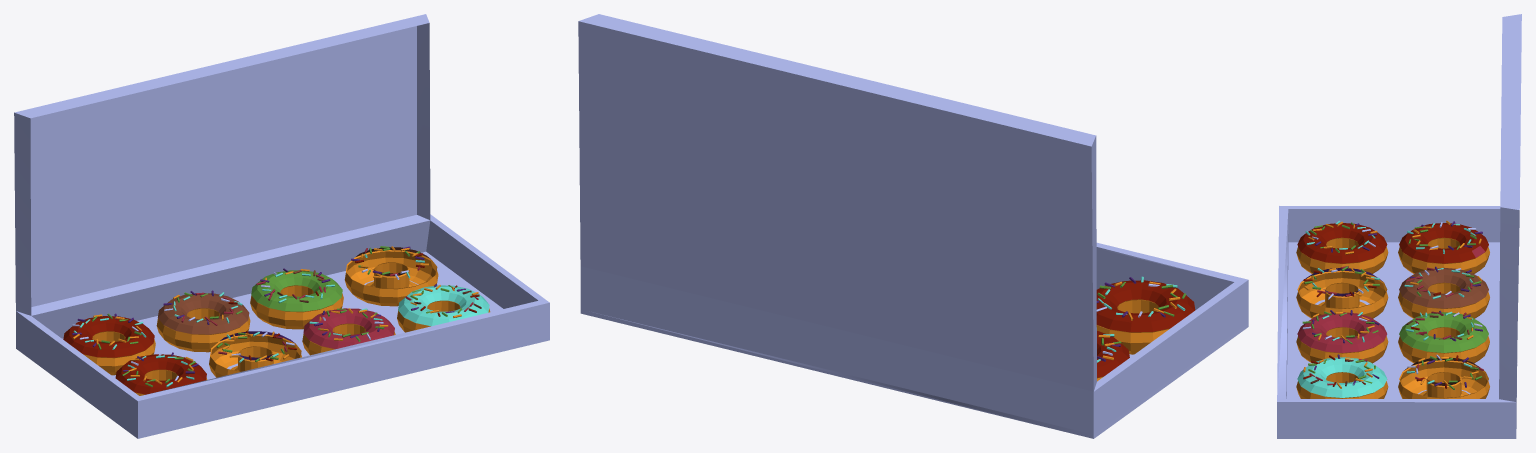
File: food-pack-0fc54b.glb
The picture shows the model from 3 angles, left to right: view 1: azimuth 30°, elevation 25°; view 2: azimuth 150°, elevation 25°; view 3: azimuth 270°, elevation 25°; orthographic projection. The views are drawn at different scales.
Visible parts, largest first — view 1: PropMesh; view 2: PropMesh; view 3: PropMesh.
Boxes of the visible parts, bbox=[...] form: PropMesh: bbox=[14, 14, 549, 438]; PropMesh: bbox=[578, 14, 1248, 438]; PropMesh: bbox=[1277, 14, 1521, 438].
Size of the model in its own units: 0.45 by 0.2464 by 0.2378.
